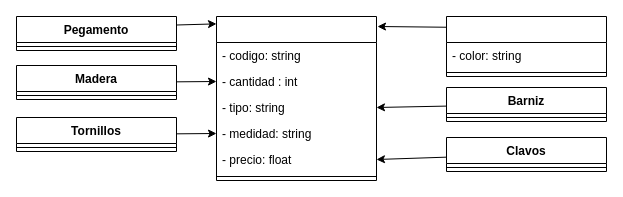
The diagram is 623 pixels wide and 197 high, and some of its shapes have lost their labels. The box of each missing label's shape, as (x1, y1, x2, y2) in pixels:
MATERIAL: (216, 16, 376, 180)
Tinte: (446, 16, 606, 76)
